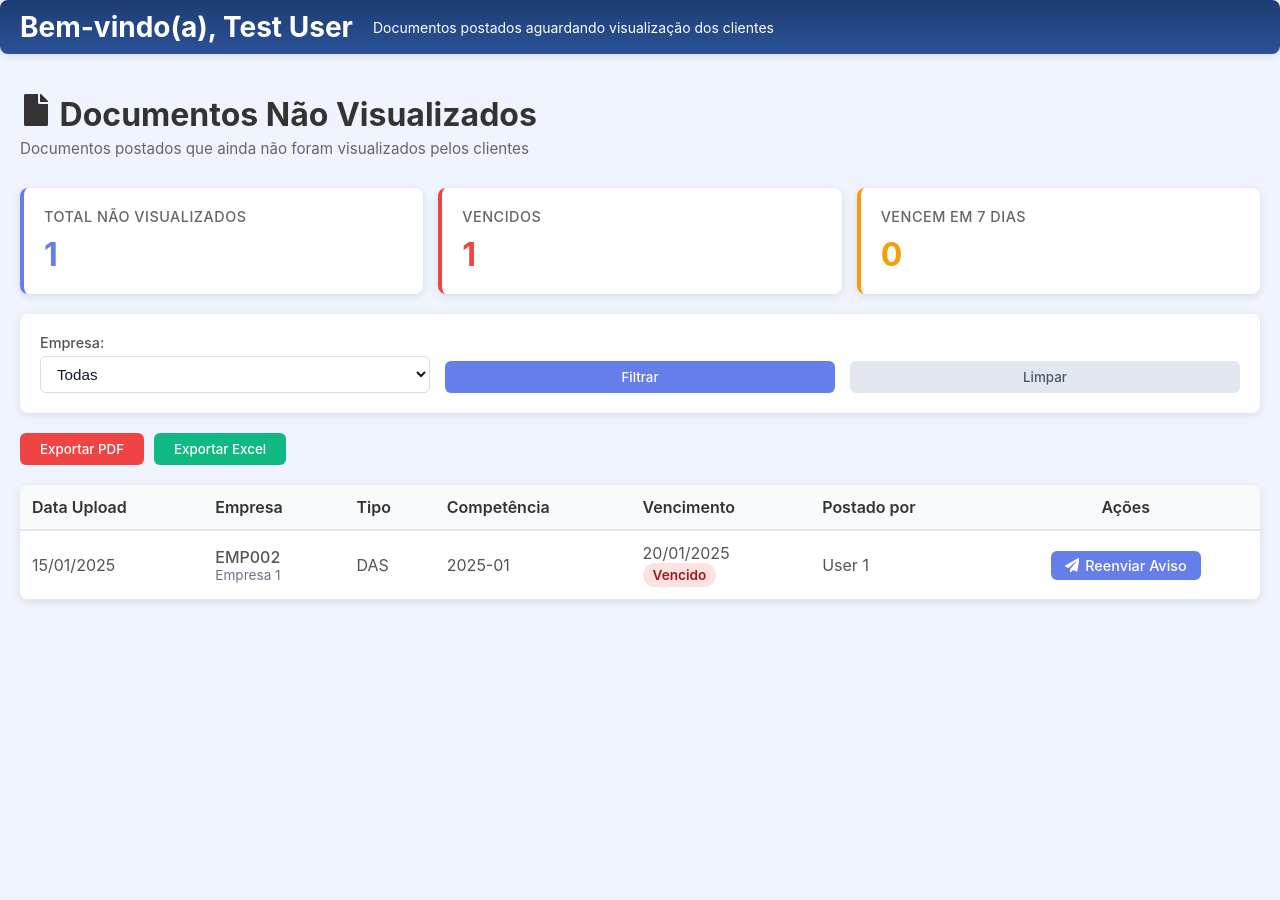
Test case: UnviewedDocs.jsx - 100% Coverage › deve reenviar notificação
This screenshot has width=1280, height=900.
Click the button "Reenviar Aviso" at x=1126, y=565, box [1051,550,1201,580]
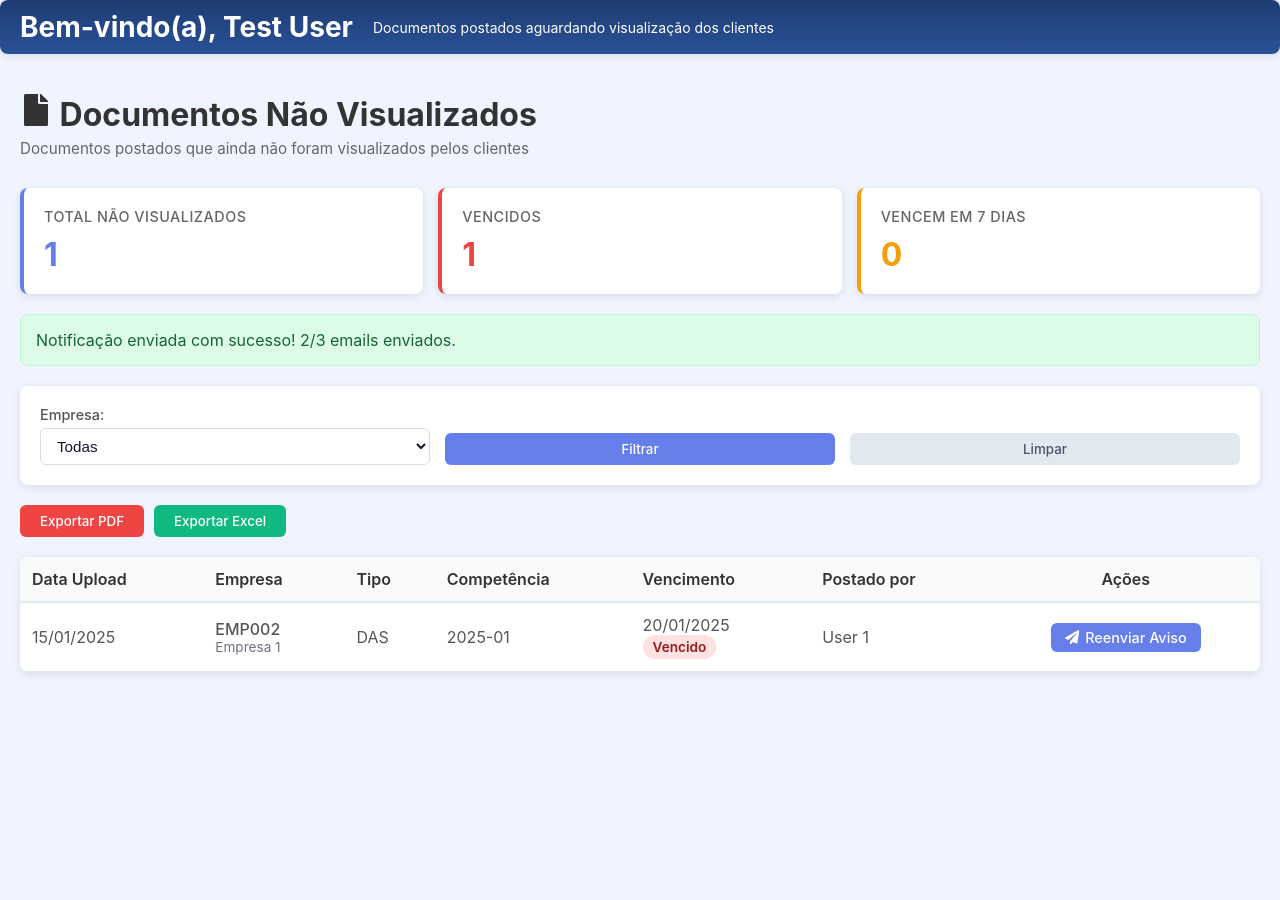
Result: the text "Notificação enviada com sucesso! 2/3 emails enviados." is shown at [20,314,1260,366]
